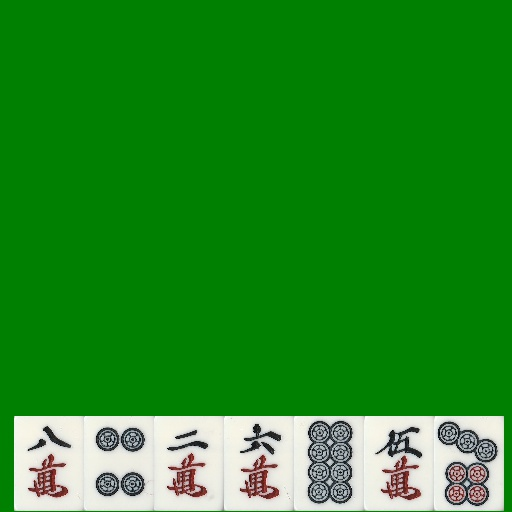2m: (154, 416, 224, 511)
4p: (84, 416, 154, 511)
5m: (364, 416, 434, 511)
6m: (224, 416, 294, 511)
7p: (434, 416, 504, 511)
8m: (14, 416, 84, 511)
8p: (294, 416, 364, 511)
